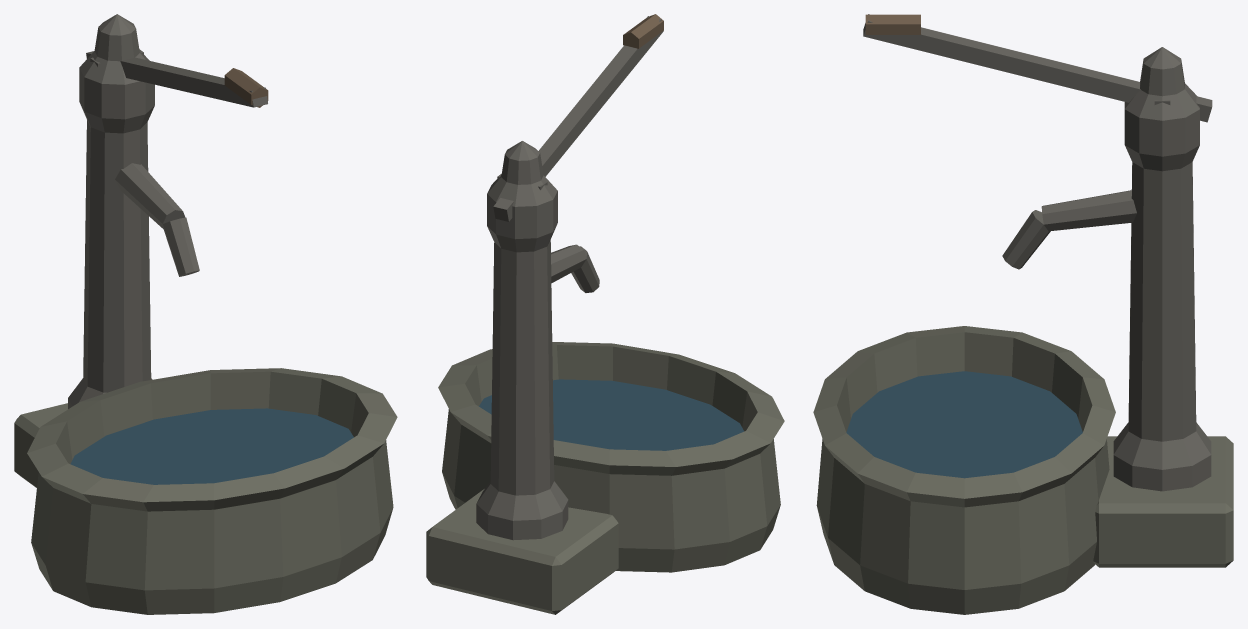
The model's file is water_pump.glb.
The picture shows the model from 3 angles, left to right: view 1: azimuth 30°, elevation 25°; view 2: azimuth 150°, elevation 25°; view 3: azimuth 270°, elevation 25°; orthographic projection. The views are drawn at different scales.
Visible parts, largest first — view 1: Water_Pump; view 2: Water_Pump; view 3: Water_Pump.
Boxes of the visible parts, bbox=[...] form: Water_Pump: bbox=[14, 14, 397, 614]; Water_Pump: bbox=[426, 14, 784, 614]; Water_Pump: bbox=[813, 14, 1233, 614].
Bounding box in the file's own units: 1.03 × 1.45 × 1.06.
